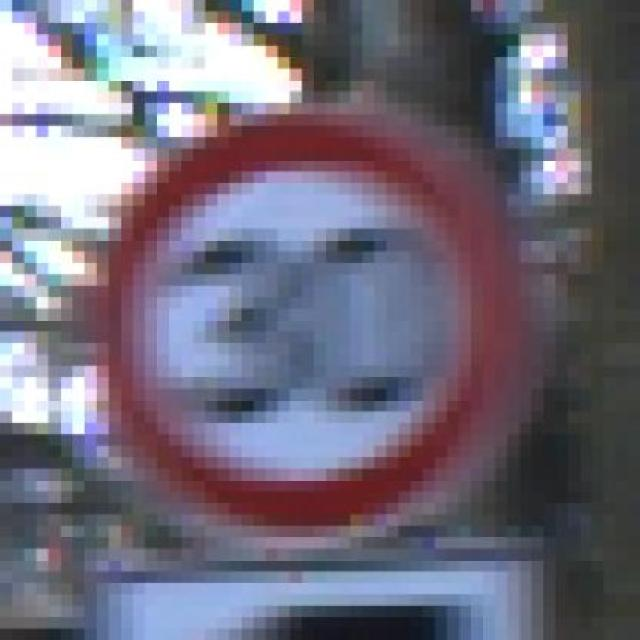Speed Limit 30 KMPh: (48, 69, 580, 548)
